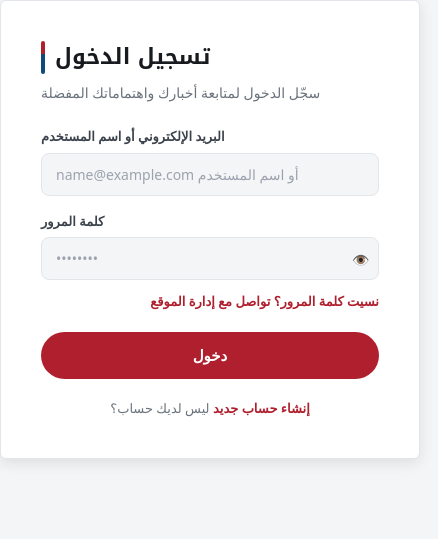
Test: LoginForm › falls back to a generic message on a server fault
In the field labelled "البريد الإلكتروني أو اسم المستخدم": x=210, y=174 [41,152,379,196], type "m.eladawy"
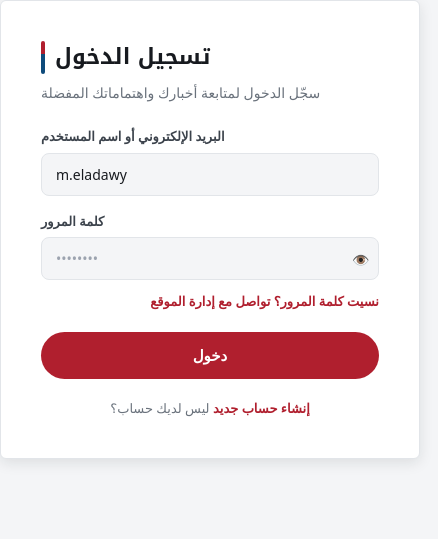
In the password field labelled "كلمة المرور": x=210, y=258 [41,237,379,280], type "hunter2"
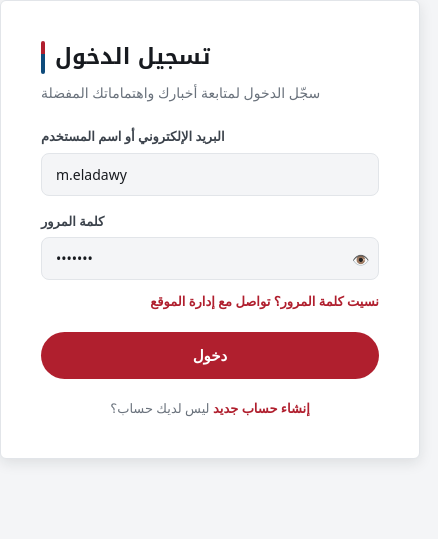
Click the button "دخول": x=210, y=355 [41,332,379,378]
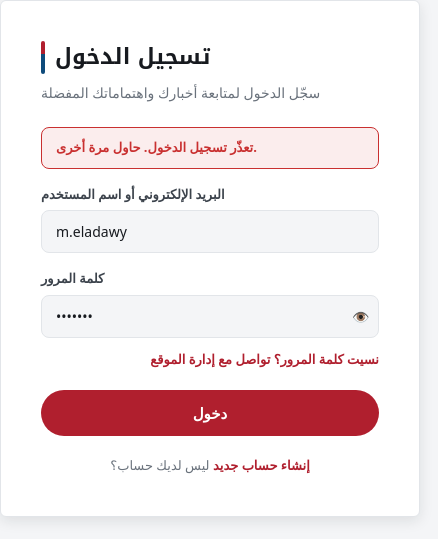
Expected: the message reads "تعذّر تسجيل الدخول. حاول مرة أخرى.", [56,138,257,156]
